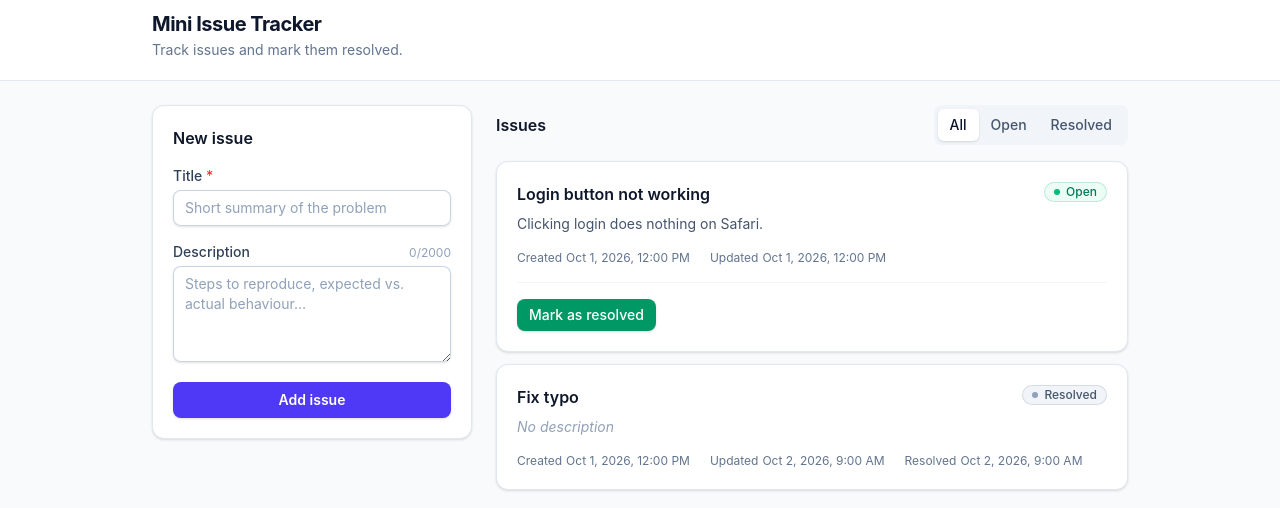
App › marks an issue as resolved
Click the button "Mark as resolved" at [586, 315], box [517, 299, 656, 331]
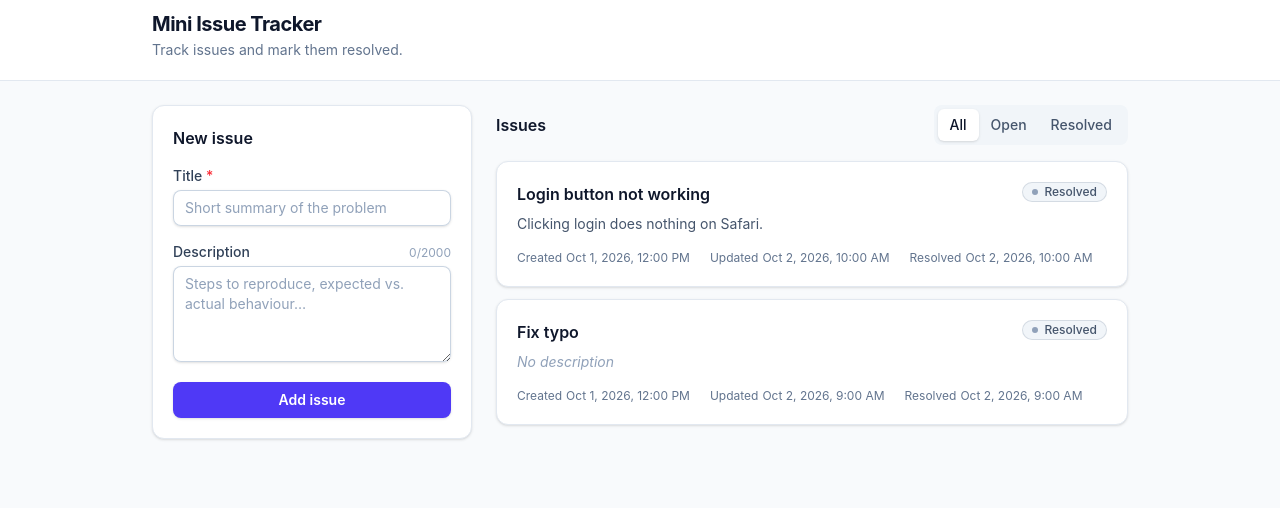
Expected: the text "Resolved" is shown, [1022, 182, 1107, 202]
Expected: the button "Mark as resolved" is gone
